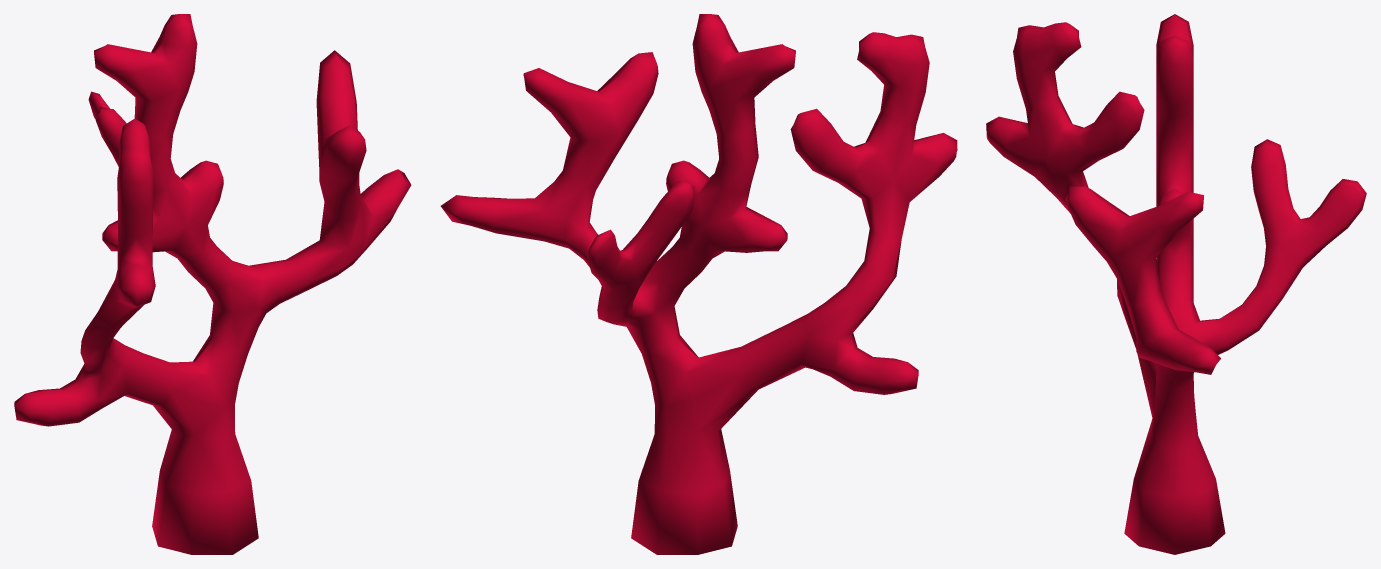
The model's file is Sango.fbx.
3 renders of one model, left to right at view 1: azimuth 30°, elevation 25°; view 2: azimuth 150°, elevation 25°; view 3: azimuth 270°, elevation 25°, orthographic. The views are drawn at different scales.
Parts seen in each view (by area): view 1: 立方体; view 2: 立方体; view 3: 立方体.
Part boxes in pixels (x1=…): 立方体: x1=14, y1=14, x2=411, y2=554; 立方体: x1=440, y1=14, x2=957, y2=554; 立方体: x1=986, y1=14, x2=1366, y2=554.
Size of the model in its own units: 187 by 217 by 154.
